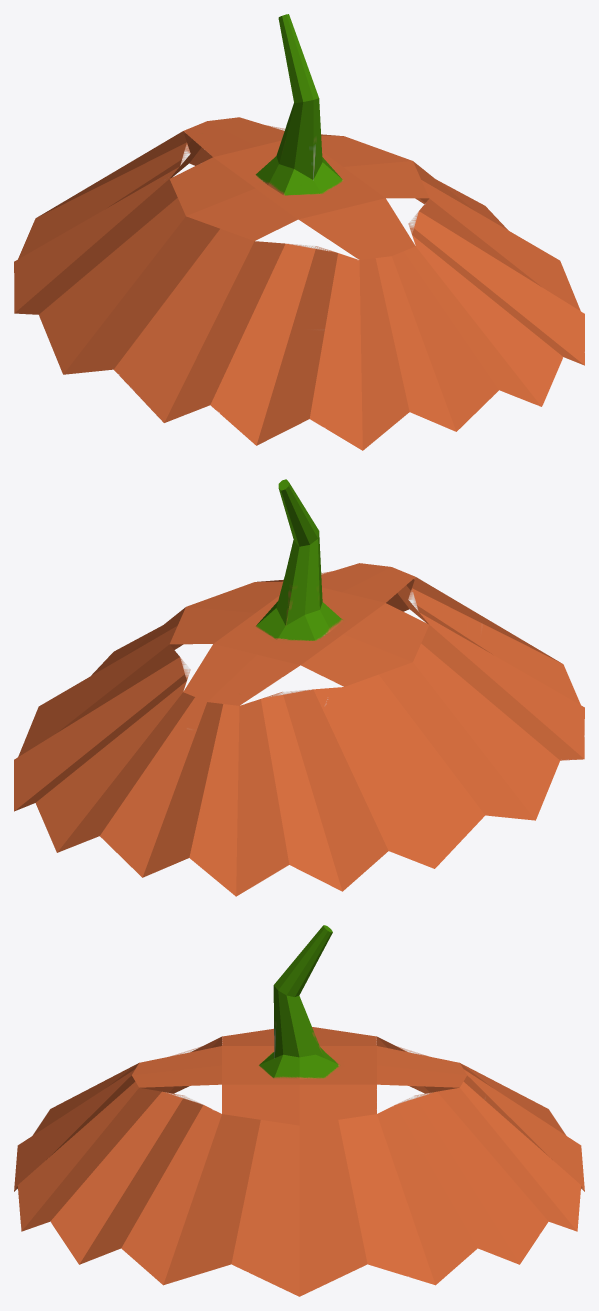
The model's file is sombreroCalabazo.obj.
The picture shows the model from 3 angles, top to bottom: view 1: azimuth 30°, elevation 25°; view 2: azimuth 150°, elevation 25°; view 3: azimuth 270°, elevation 25°; orthographic projection. The views are drawn at different scales.
Parts seen in each view (by area): view 1: calabazoTallo; view 2: calabazoTallo; view 3: calabazoTallo.
Part boxes in pixels (<box>): calabazoTallo: <box>14,14,584,450</box>; calabazoTallo: <box>14,479,584,896</box>; calabazoTallo: <box>14,925,584,1296</box>.
Size of the model in its own units: 1.76 by 1.05 by 2.03.
1 material, 1 textured.
